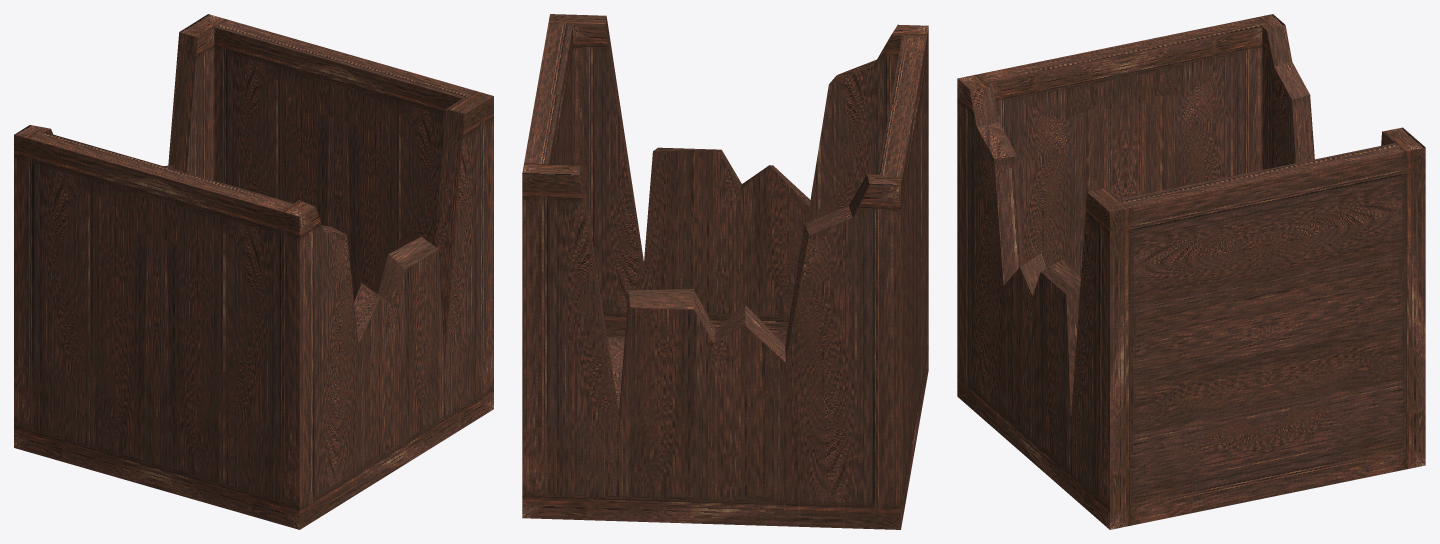
The model's file is crate-broken.glb.
The picture shows the model from 3 angles, left to right: view 1: azimuth 30°, elevation 25°; view 2: azimuth 150°, elevation 25°; view 3: azimuth 270°, elevation 25°; orthographic projection. The views are drawn at different scales.
Parts seen in each view (by area): view 1: Crate_Broken; view 2: Crate_Broken; view 3: Crate_Broken.
Boxes of the visible parts, x1,y1,x2,y2 form: Crate_Broken: [14, 14, 493, 529]; Crate_Broken: [522, 14, 928, 529]; Crate_Broken: [957, 14, 1425, 529].
Size of the model in its own units: 0.738 by 0.5526 by 0.738.
1 material, 1 textured.
